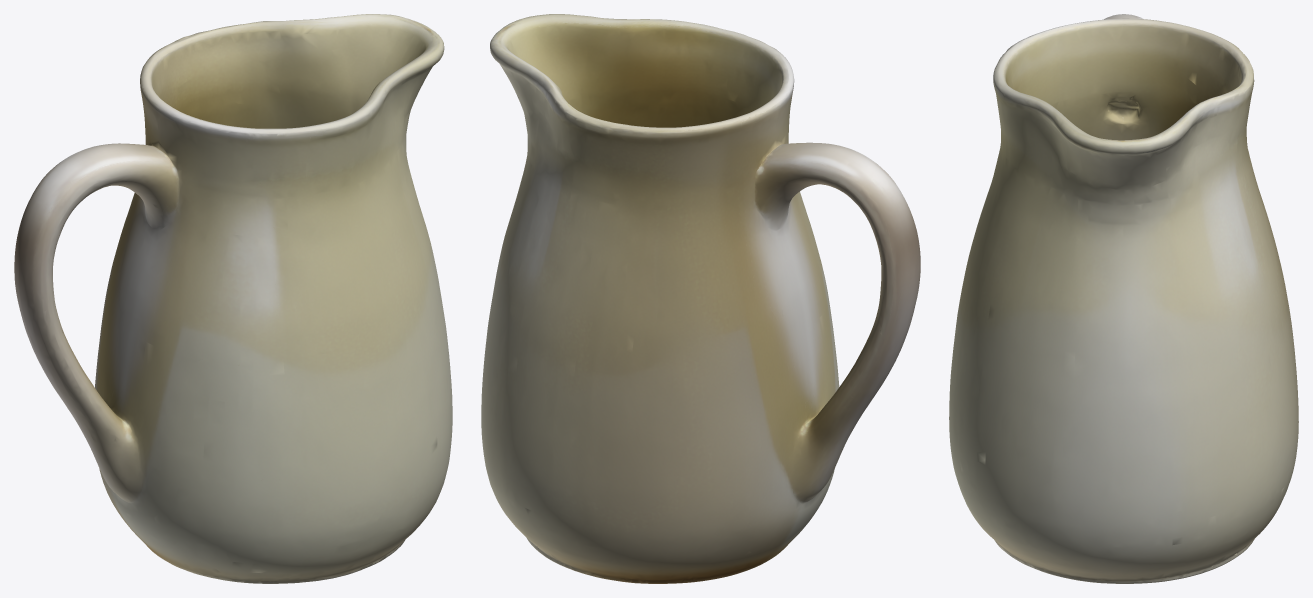
Rendered from LemonadeProp_Pitcher_A.fbx.
The picture shows the model from 3 angles, left to right: view 1: azimuth 30°, elevation 25°; view 2: azimuth 150°, elevation 25°; view 3: azimuth 270°, elevation 25°; orthographic projection.
Visible parts, largest first — view 1: geometry_0; view 2: geometry_0; view 3: geometry_0.
Boxes of the visible parts, bbox=[...] form: geometry_0: bbox=[14, 14, 452, 583]; geometry_0: bbox=[481, 14, 920, 583]; geometry_0: bbox=[949, 14, 1298, 583].
Size of the model in its own units: 0.234 by 0.25 by 0.1706.
Materials: 1 (1 with a texture image).
